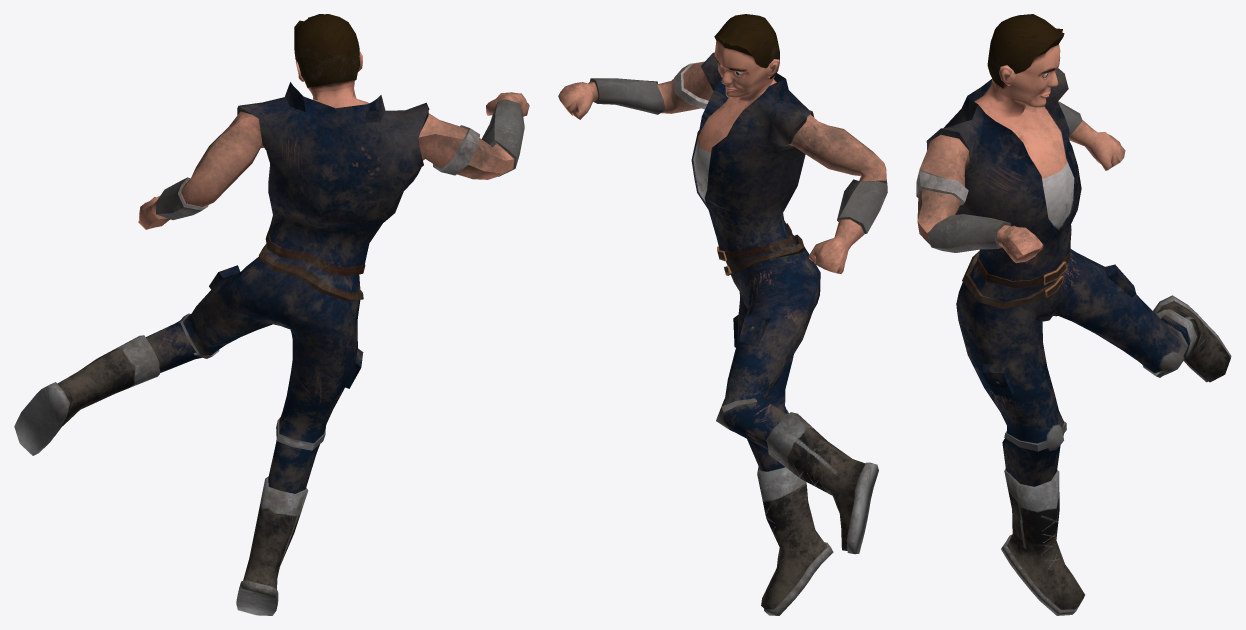
Rendered from Anim_ataque_f2_jugador.0026.obj.
3 renders of one model, left to right at view 1: azimuth 30°, elevation 25°; view 2: azimuth 150°, elevation 25°; view 3: azimuth 270°, elevation 25°, orthographic. The views are drawn at different scales.
Visible parts, largest first — view 1: polySurface1; view 2: polySurface1; view 3: polySurface1.
Part boxes in pixels (box(x1,y1,x2,y2)): polySurface1: box(14, 14, 529, 615); polySurface1: box(558, 14, 887, 615); polySurface1: box(916, 14, 1231, 615).
Size of the model in its own units: 7.24 by 10.12 by 4.66.
